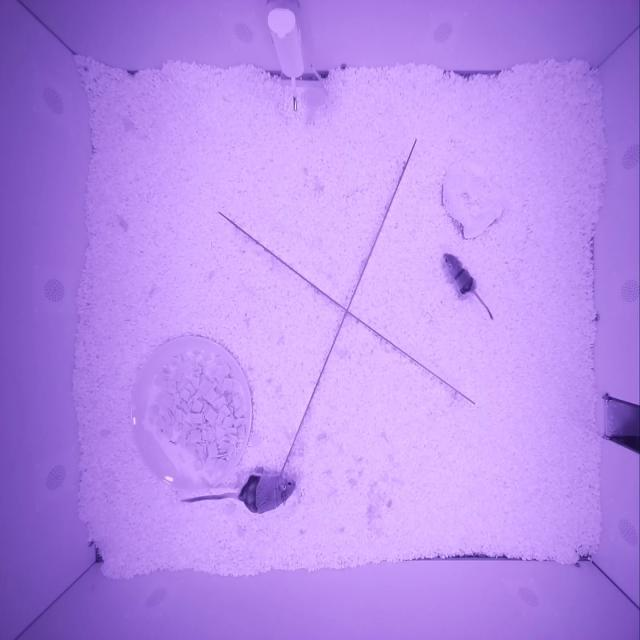adult_back: (238, 467, 295, 514)
pup_h_stripe: (443, 253, 477, 296)
